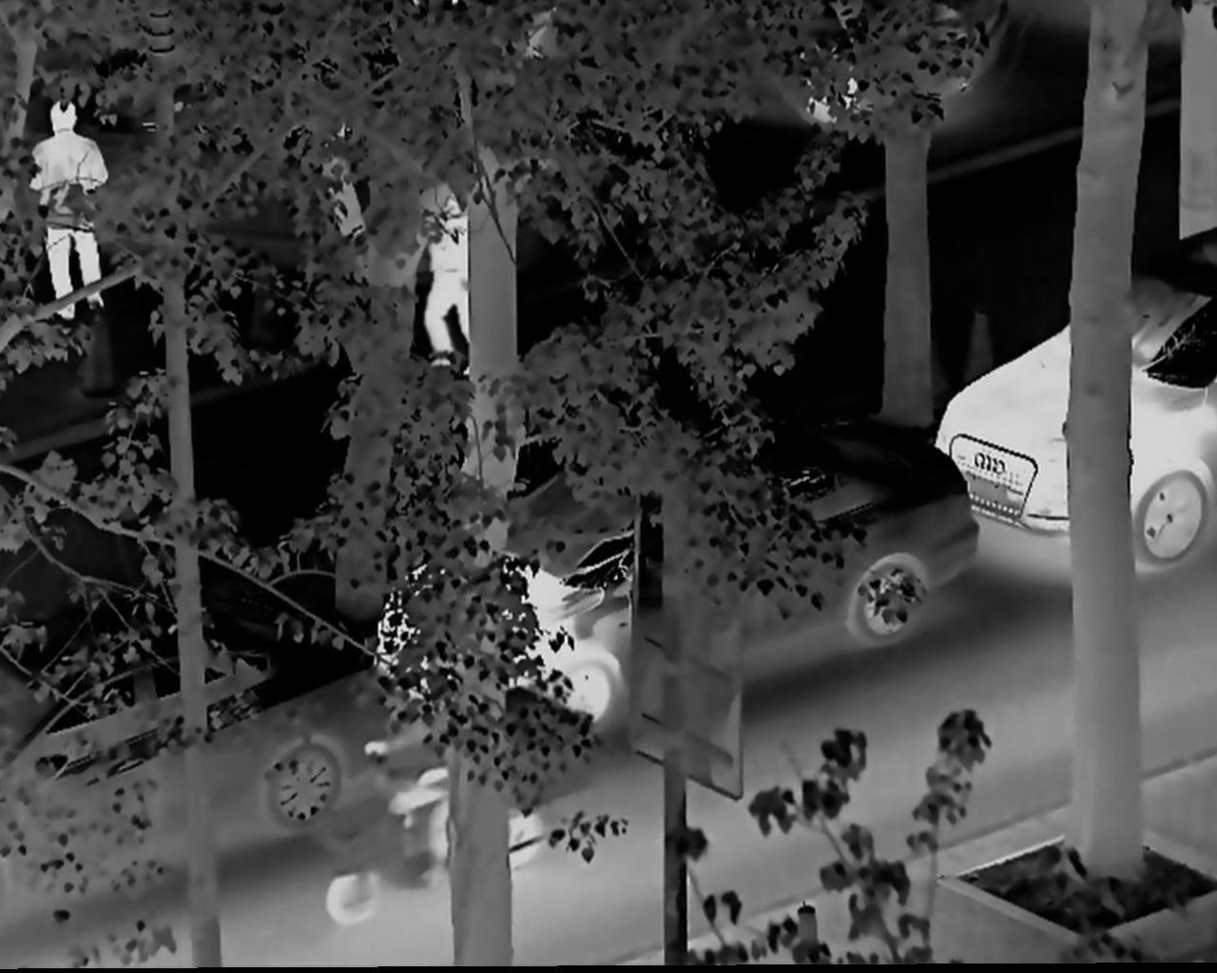person: (33, 95, 115, 334), (399, 192, 479, 379)
